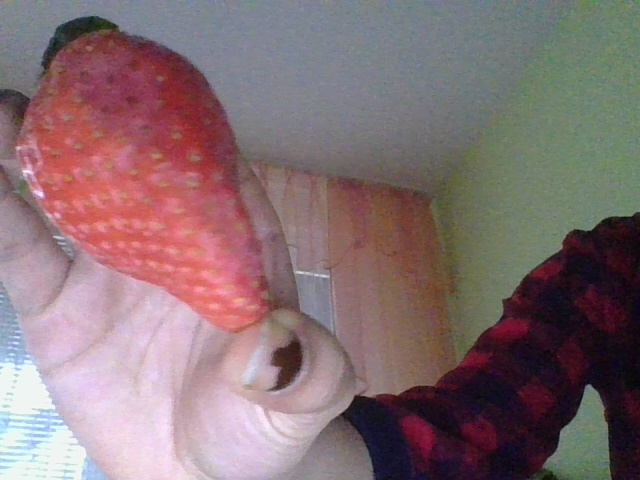ripe: (16, 35, 269, 334)
